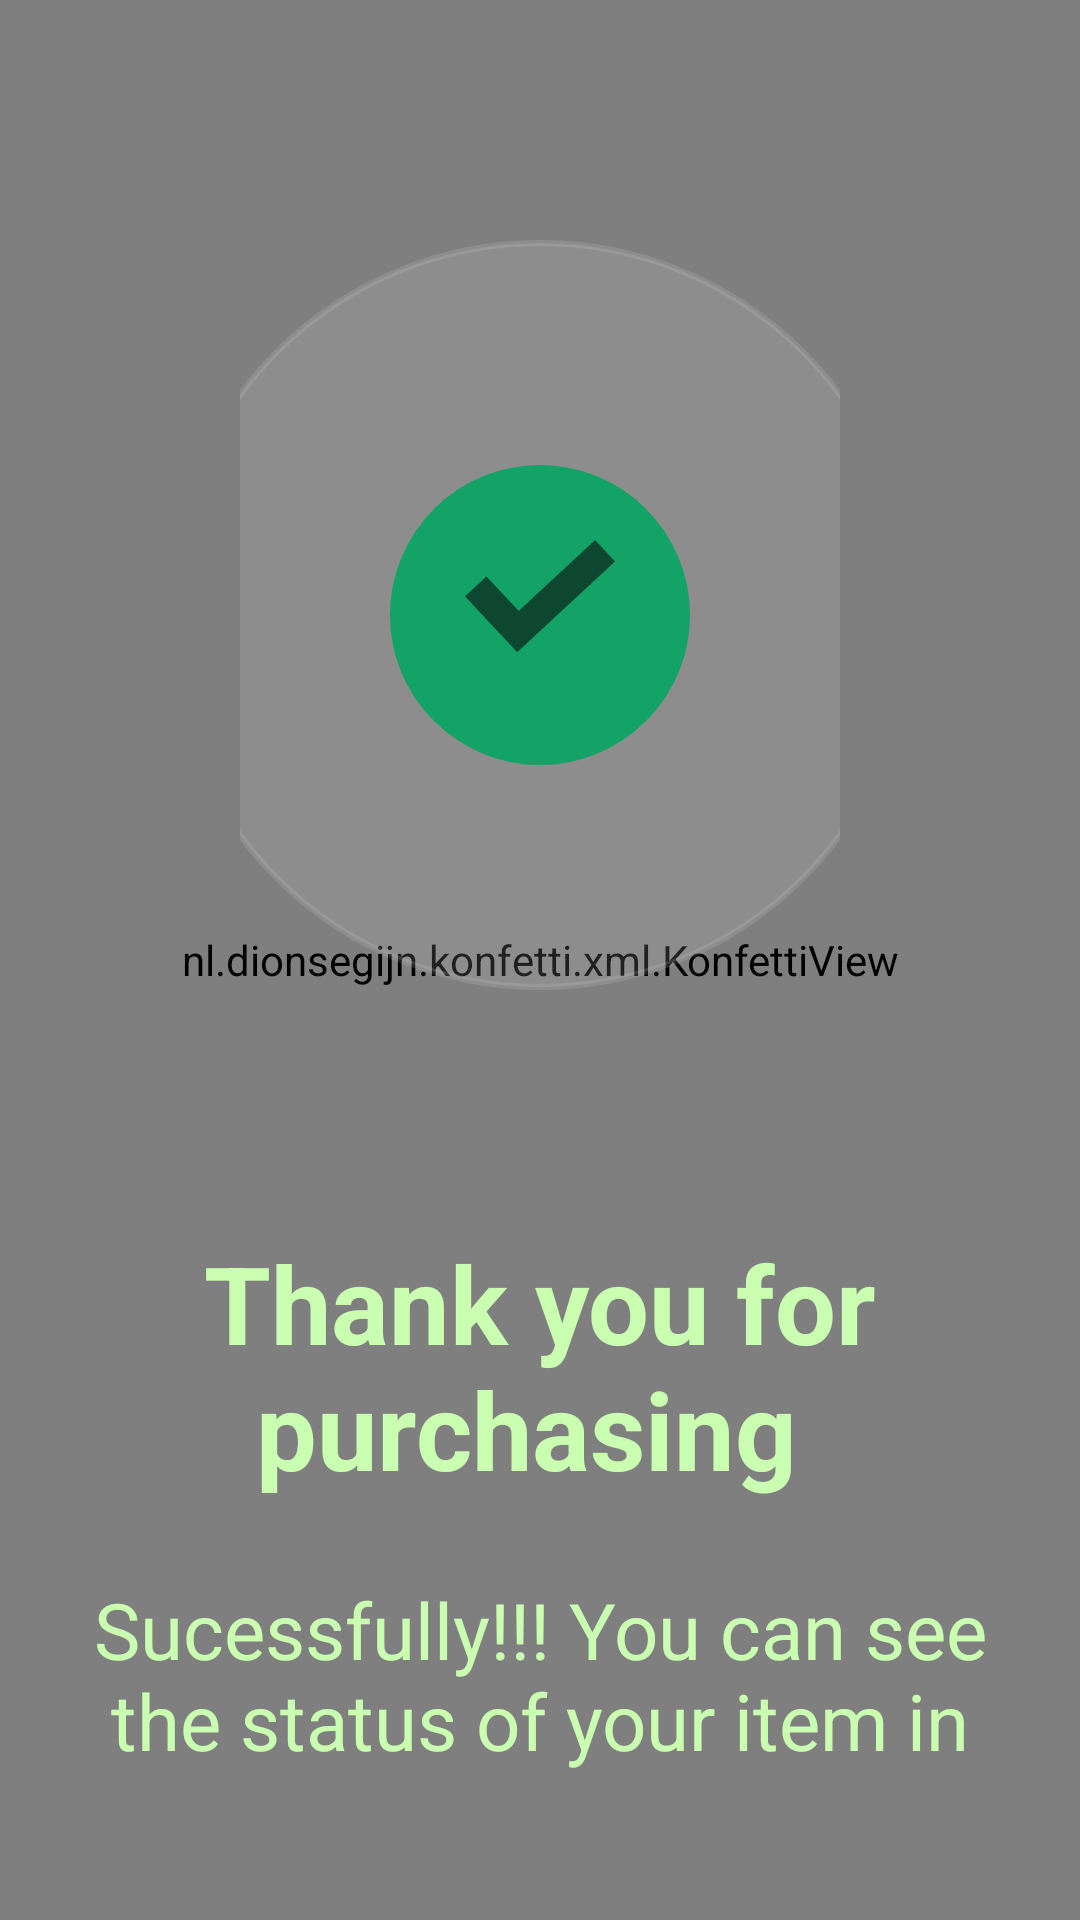

Icon bounding boxes for this 1080px×1920px phone screenshot, format bbox=(x1, y1, x2, y2):
check: bbox=(465, 540, 615, 652)
